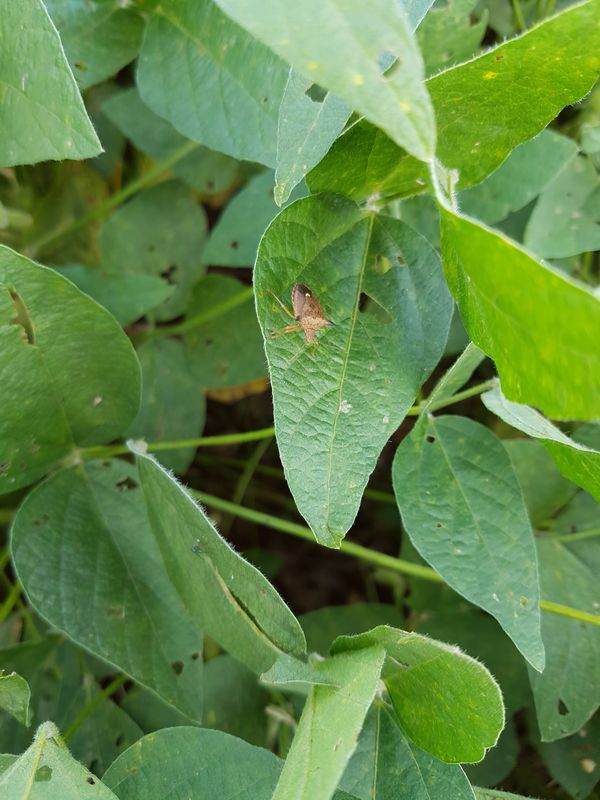Euschistus_heros_adulto: (255, 268, 350, 358)
